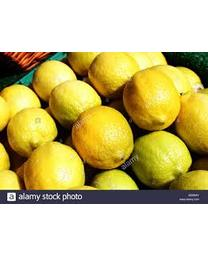lemon: (73, 107, 136, 169), (131, 129, 193, 189), (125, 68, 181, 129), (25, 139, 86, 190), (6, 106, 58, 158), (48, 80, 103, 126)
